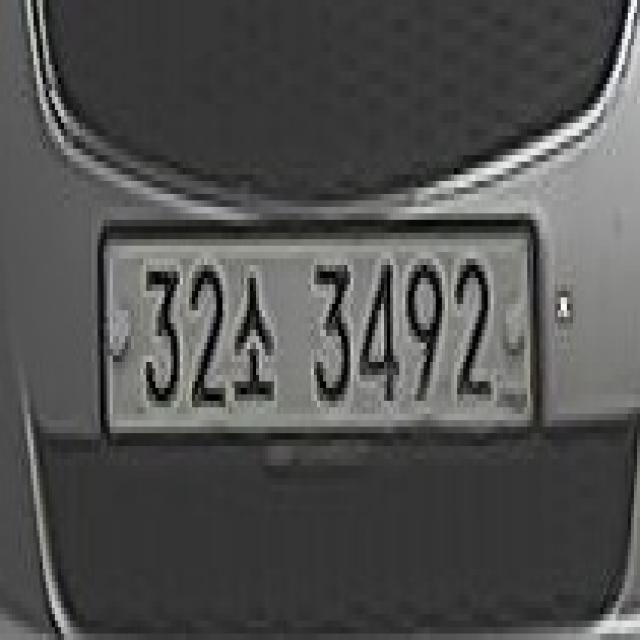2: (448, 252, 494, 407), (183, 259, 228, 407)
3: (304, 252, 354, 414), (137, 258, 183, 414)
4: (354, 252, 399, 401)
9: (402, 252, 445, 407)
license_plate: (98, 226, 534, 446)
so: (232, 265, 274, 407)
